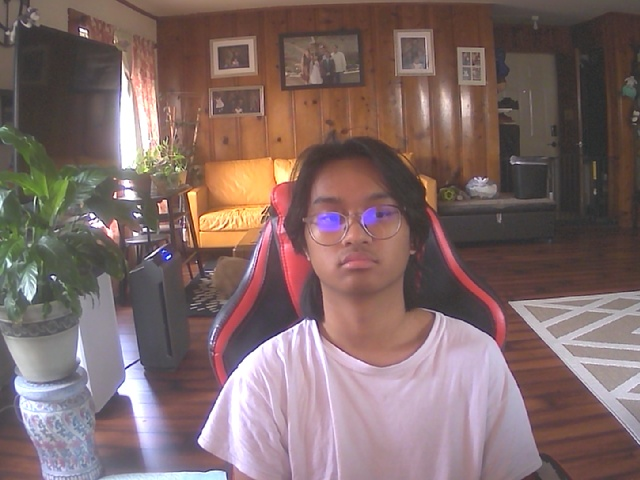neutral: (297, 143, 424, 297)
